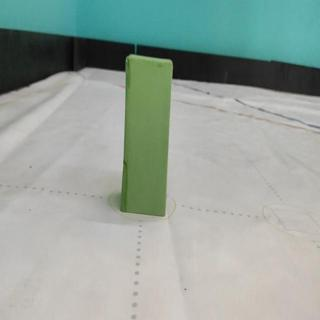greenbox: (121, 53, 174, 221)
